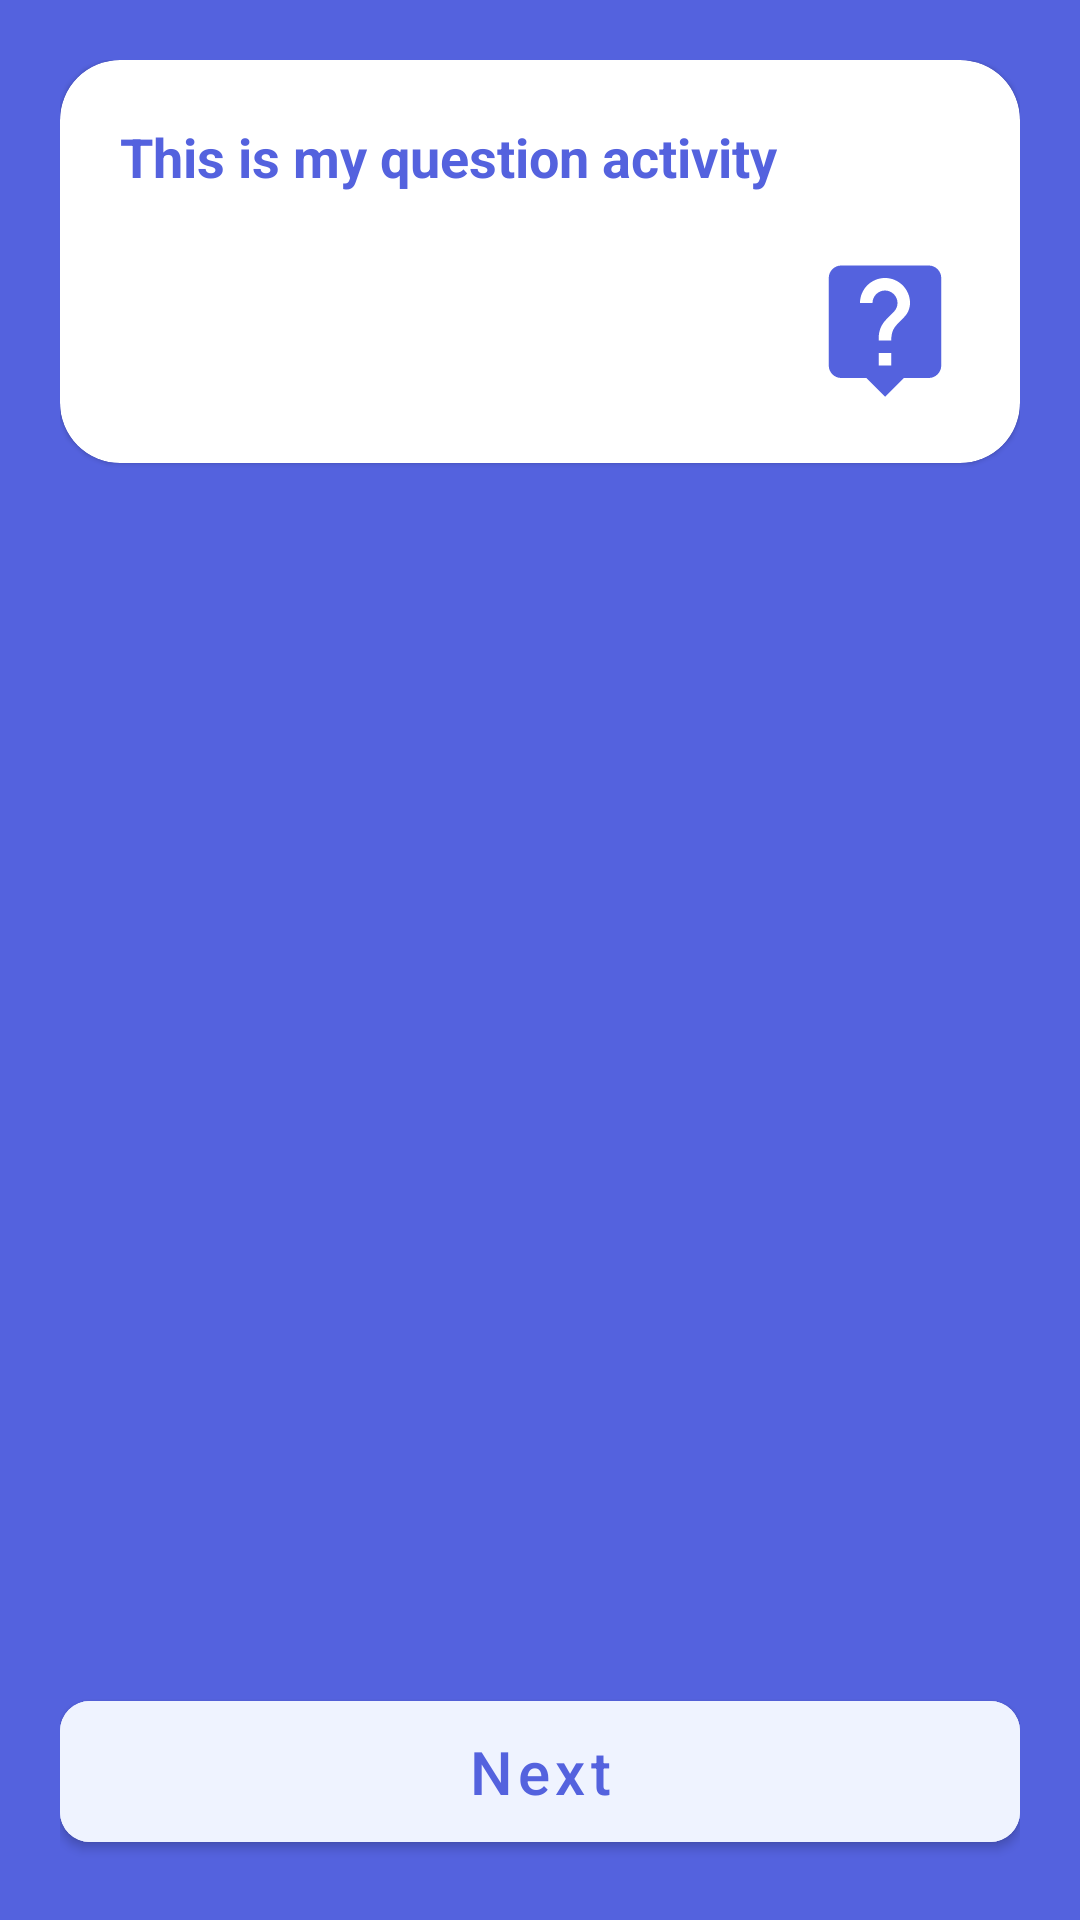

Point at icon controls on the screen. Image size 1080 x 1920, points as point (x, y).
help: point (885, 331)
